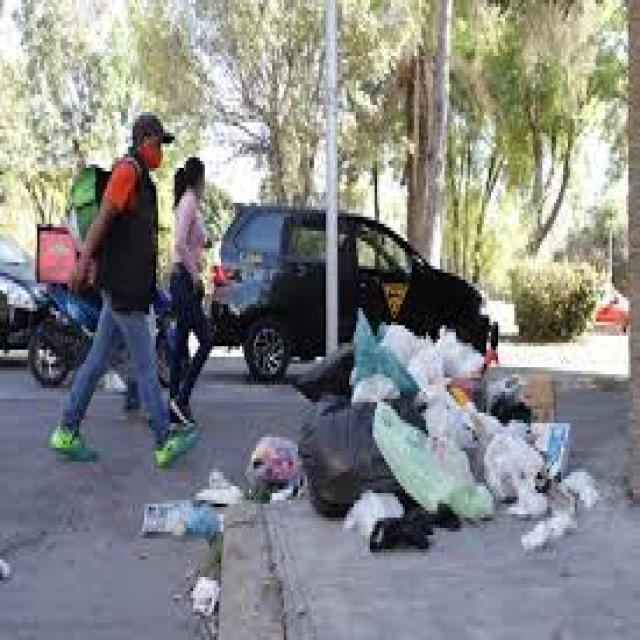garbage: (296, 306, 600, 560), (245, 427, 304, 508), (140, 495, 224, 551), (192, 464, 248, 511), (189, 568, 224, 620)
